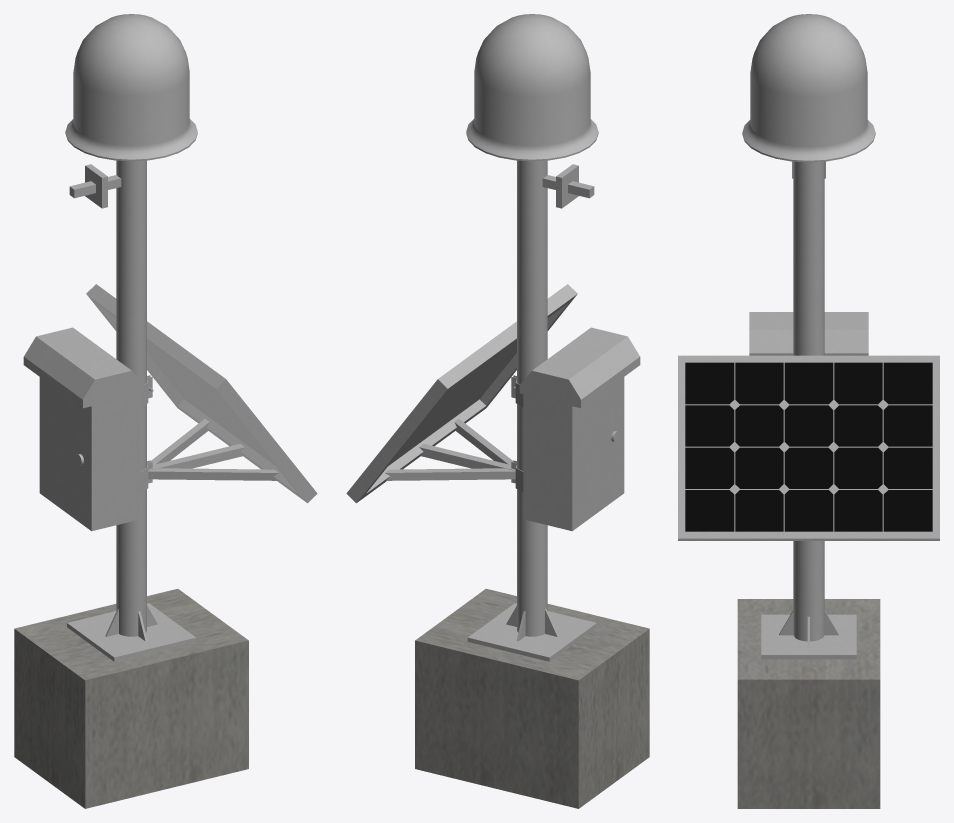
The model's file is gass.FBX.
The picture shows the model from 3 angles, left to right: view 1: azimuth 30°, elevation 25°; view 2: azimuth 150°, elevation 25°; view 3: azimuth 270°, elevation 25°; orthographic projection.
Parts seen in each view (by area): view 1: GNSS; view 2: GNSS; view 3: GNSS.
Part boxes in pixels (x1,y1,x2,y2): GNSS: (14,14,317,808); GNSS: (346,14,649,808); GNSS: (678,14,939,808).
Size of the model in its own units: 0.4958 by 1.74 by 0.55.
Materials: 3 (2 with a texture image).
